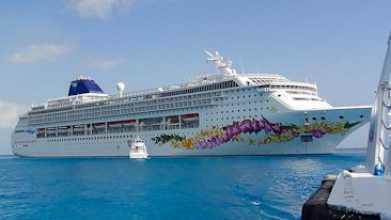youlun: (8, 52, 373, 159)
